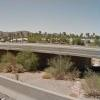Bridge: (5, 26, 97, 77)
